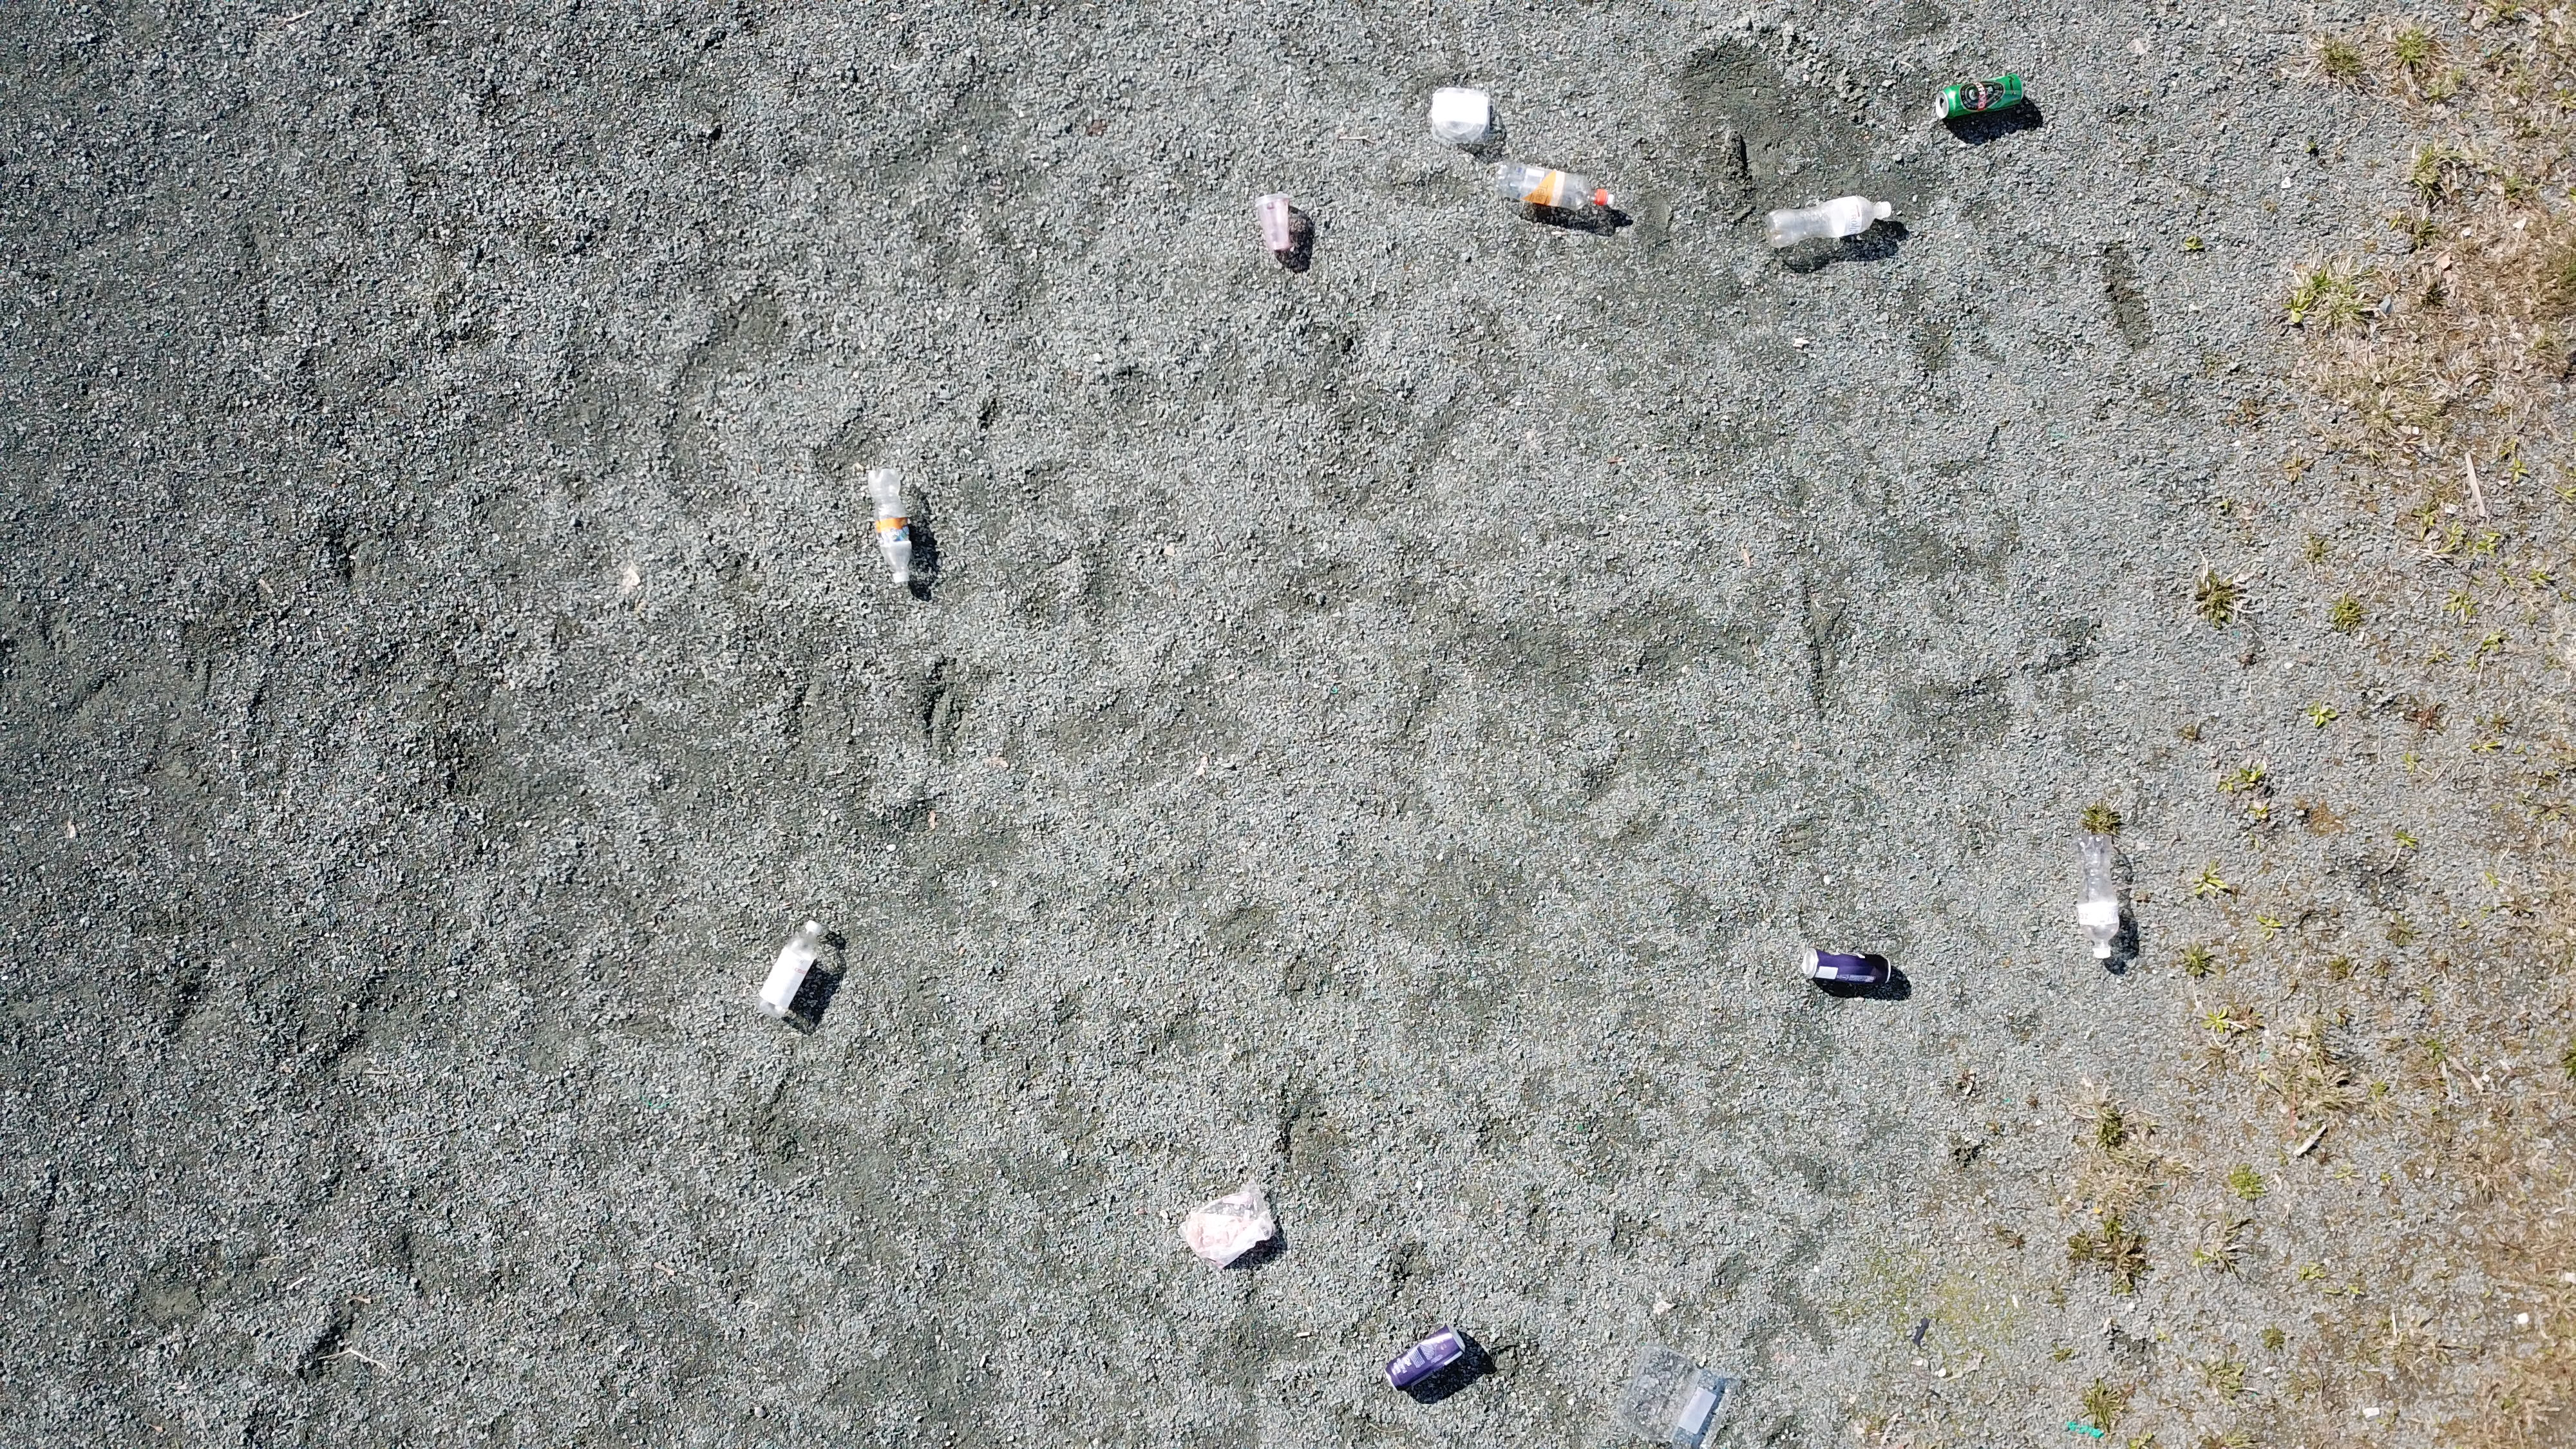Can: (1378, 1325, 1470, 1399), (1934, 76, 2040, 122), (1798, 947, 1900, 993)
Plastic: (1629, 1341, 1737, 1449), (1175, 1173, 1284, 1267), (1424, 76, 1495, 154), (1260, 189, 1293, 249)
PlasticBottle: (860, 448, 925, 589), (2074, 821, 2125, 964), (1500, 161, 1628, 218), (1762, 195, 1895, 244), (761, 916, 823, 1016)
